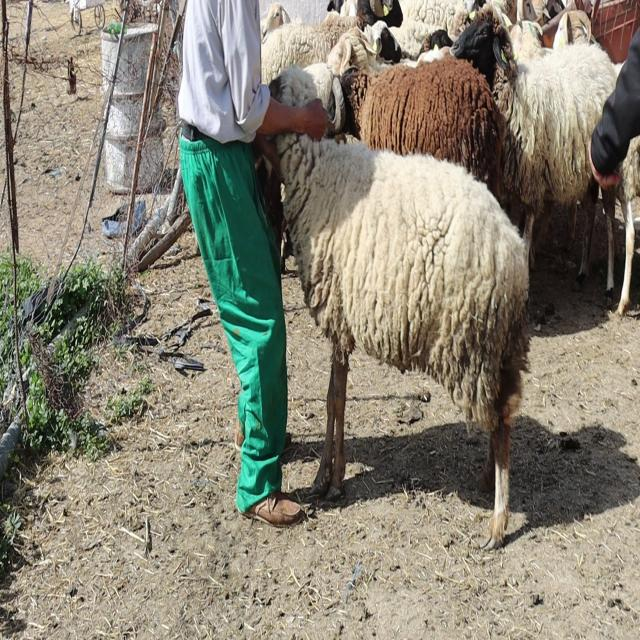Score_5: (270, 133, 529, 548)
